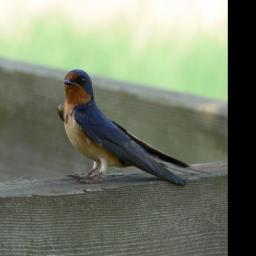Swallow: (55, 67, 213, 189)
